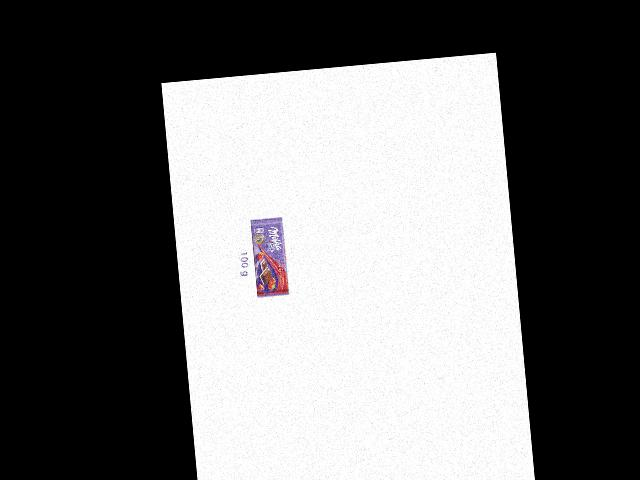chocolate: (246, 217, 289, 298)
